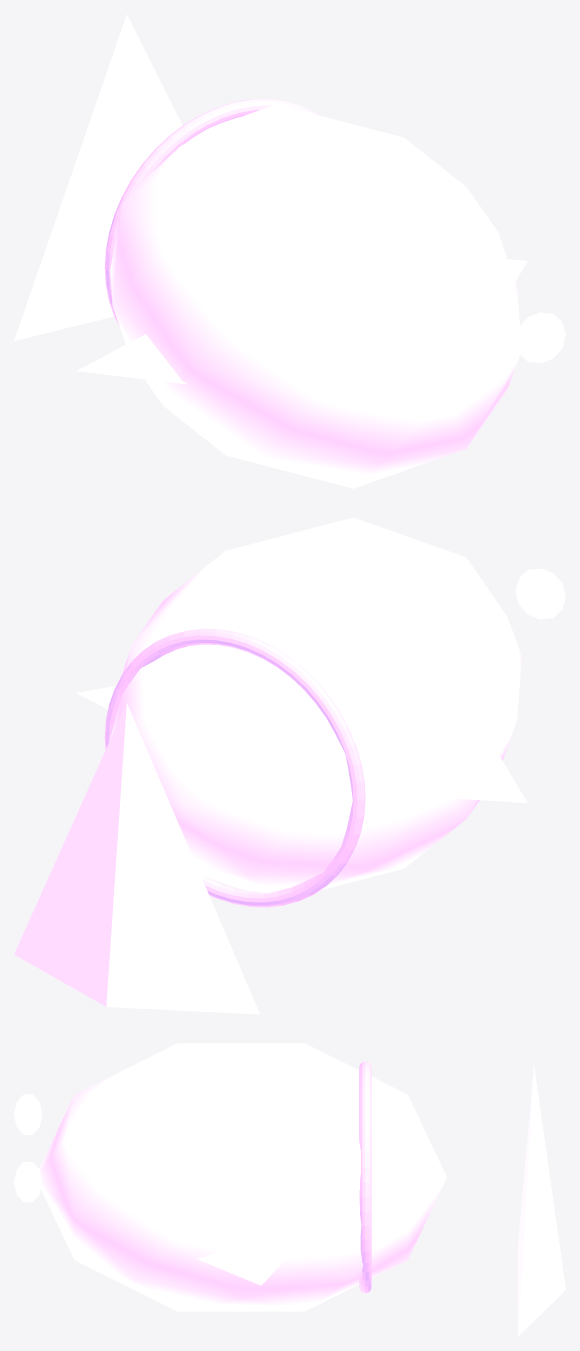
Rendered from bubblefin.glb.
3 renders of one model, top to bottom at view 1: azimuth 30°, elevation 25°; view 2: azimuth 150°, elevation 25°; view 3: azimuth 270°, elevation 25°, orthographic. The views are drawn at different scales.
Parts seen in each view (by area): view 1: body, swim-tail, biolight-ring.002, swim-fin--1, eye-1, eye--1; view 2: body, swim-tail, biolight-ring.002, swim-fin--1, eye--1; view 3: body, swim-tail, biolight-ring.002, swim-fin-1, eye--1, eye-1.
Boxes of the visible parts, x1=… form: body: x1=110, y1=104, x2=519, y2=488; swim-tail: x1=14, y1=14, x2=182, y2=340; biolight-ring.002: x1=104, y1=98, x2=319, y2=326; swim-fin--1: x1=77, y1=334, x2=187, y2=384; eye-1: x1=515, y1=312, x2=565, y2=362; eye--1: x1=337, y1=356, x2=388, y2=406; body: x1=110, y1=517, x2=521, y2=893; swim-tail: x1=14, y1=703, x2=259, y2=1014; biolight-ring.002: x1=104, y1=628, x2=365, y2=907; swim-fin--1: x1=442, y1=756, x2=527, y2=803; eye--1: x1=515, y1=568, x2=565, y2=619; body: x1=39, y1=1043, x2=446, y2=1311; swim-tail: x1=518, y1=1066, x2=565, y2=1336; biolight-ring.002: x1=359, y1=1061, x2=371, y2=1293; swim-fin-1: x1=196, y1=1241, x2=285, y2=1285; eye--1: x1=14, y1=1094, x2=42, y2=1134; eye-1: x1=14, y1=1162, x2=42, y2=1202.
Bounding box in the file's own units: 2.29 × 1.56 × 3.11.
